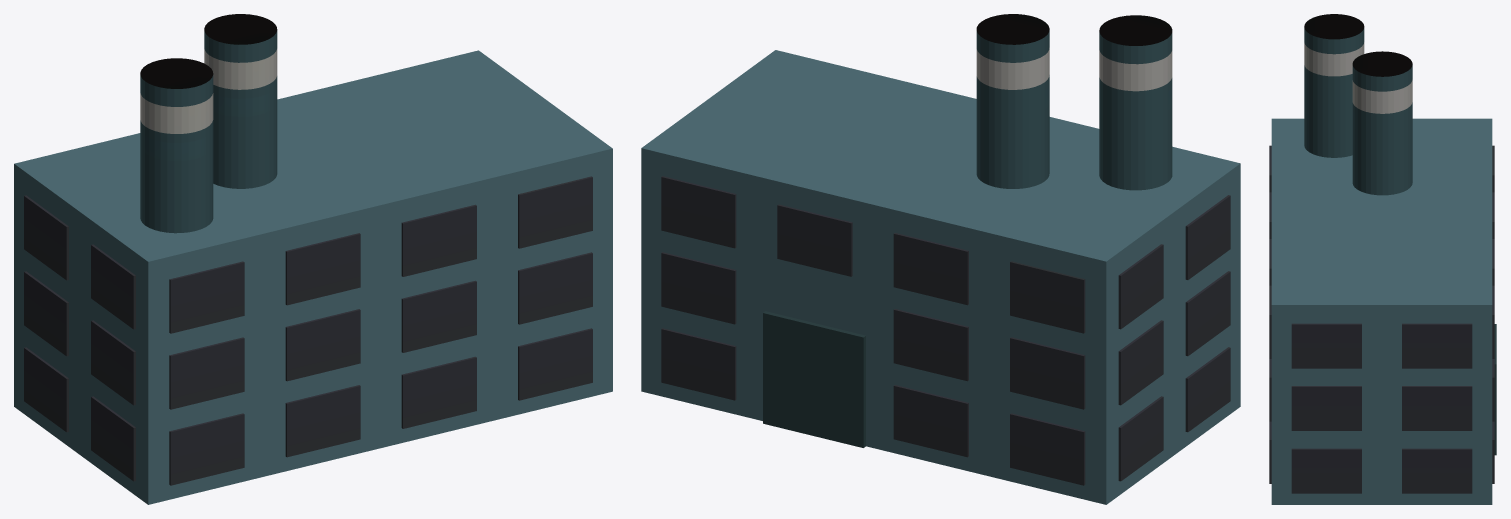
File: factory.fbx
3 views of the same model, side by side, from view 1: azimuth 30°, elevation 25°; view 2: azimuth 150°, elevation 25°; view 3: azimuth 270°, elevation 25° (orthographic). The views are drawn at different scales.
Visible parts, largest first — view 1: Cube; view 2: Cube; view 3: Cube.
Boxes of the visible parts, x1=… form: Cube: x1=14, y1=14, x2=612, y2=504; Cube: x1=641, y1=14, x2=1240, y2=504; Cube: x1=1269, y1=14, x2=1496, y2=504.
Bounding box in the file's own units: 1616 × 1274 × 823.
Materials: 1 (1 with a texture image).
